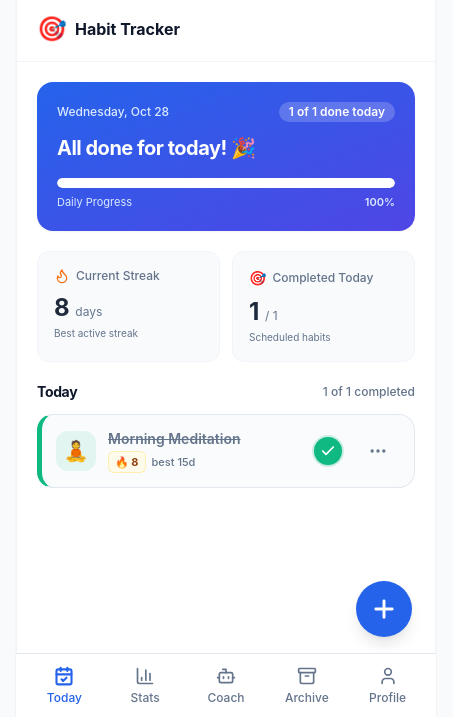
it: DashboardPage Mobile View › toggles check-in off (uncheck) for an already checked habit
This screenshot has width=453, height=717.
Click card to uncheck
Click the button named "toggle morning meditation, currently completed".
click(328, 451)  # box [306,429,350,473]
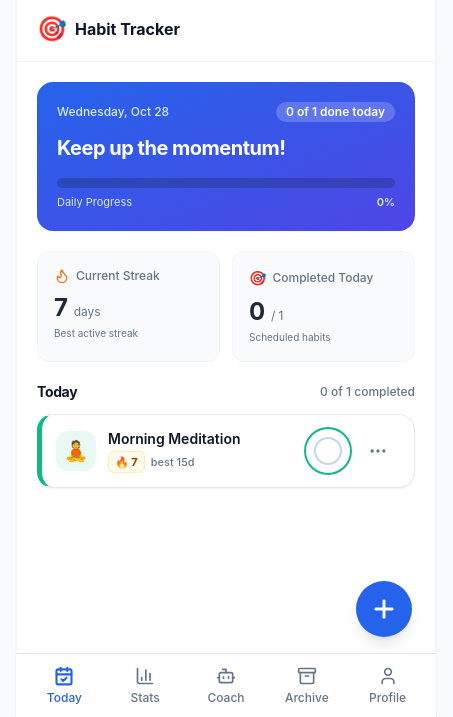
expect the text "0 of 1 done today" is shown: met, box [276,102,395,122]
